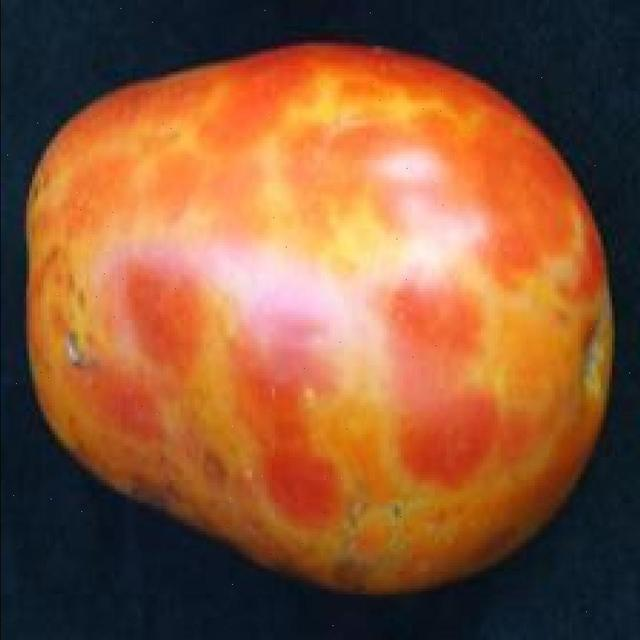Spotted wilt Virus Fruit: (14, 29, 409, 399)
